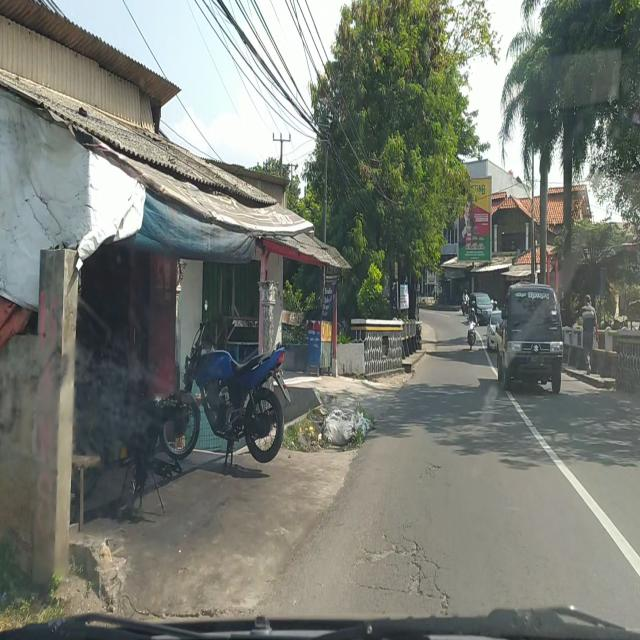Drain Hole: (349, 526, 450, 611)
